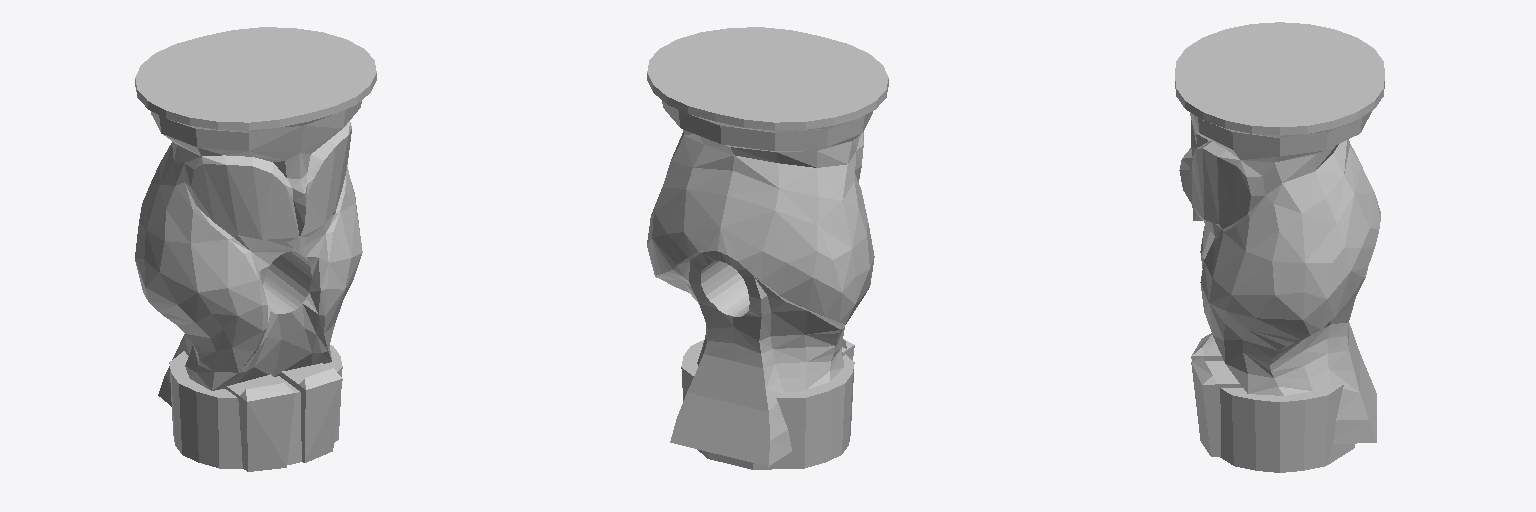
The model's file is EstatuaZ.obj.
The picture shows the model from 3 angles: view 1: azimuth 30°, elevation 25°; view 2: azimuth 150°, elevation 25°; view 3: azimuth 270°, elevation 25°; orthographic projection.
Parts seen in each view (by area): view 1: 0; view 2: 0; view 3: 0.
Boxes of the visible parts, <box> form: 0: <box>135,27,376,471</box>; 0: <box>647,27,888,469</box>; 0: <box>1175,22,1384,472</box>.
Size of the model in its own units: 249 by 400 by 211.